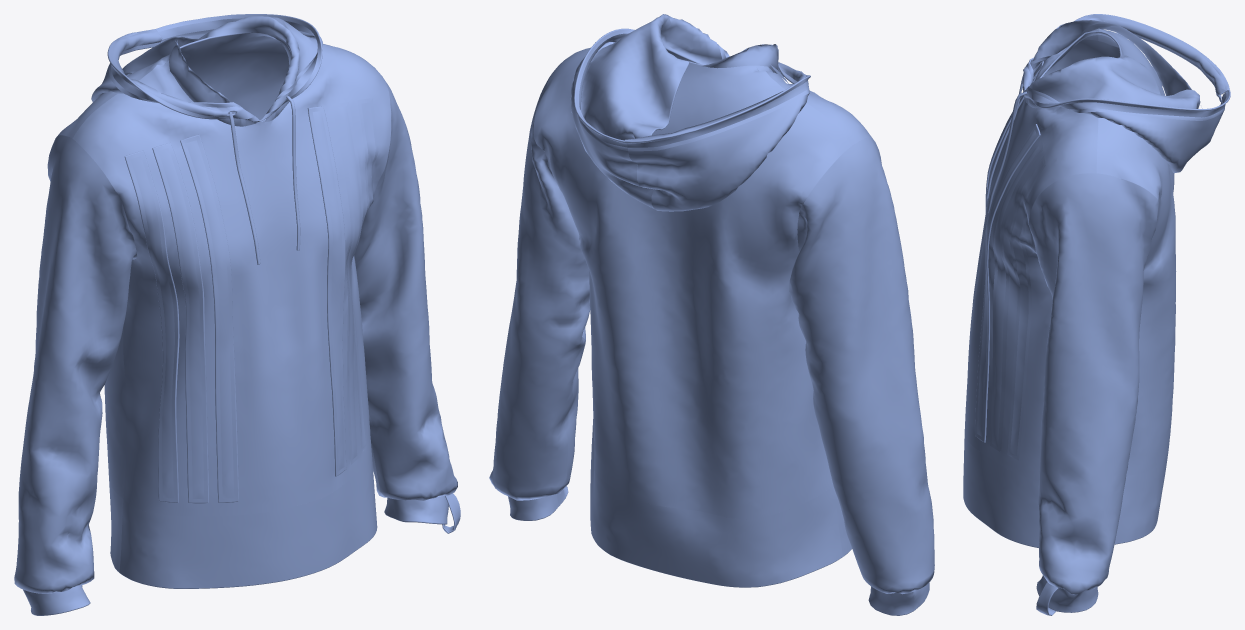
File: 1762400029746-lugaFata.glb
3 renders of one model, left to right at view 1: azimuth 30°, elevation 25°; view 2: azimuth 150°, elevation 25°; view 3: azimuth 270°, elevation 25°, orthographic. The views are drawn at different scales.
Parts seen in each view (by area): view 1: Cloth_1; view 2: Cloth_1; view 3: Cloth_1.
Part boxes in pixels (box(x1,y1,x2,y2)): Cloth_1: box(14, 14, 460, 615); Cloth_1: box(489, 14, 934, 615); Cloth_1: box(963, 14, 1230, 615).
Size of the model in its own units: 0.064 by 0.0754 by 0.0375.
Materials: 3 (1 with a texture image).
